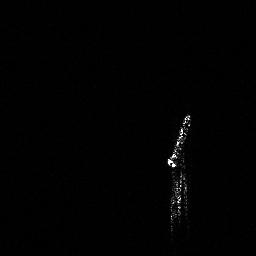ship: (166, 111, 194, 236)
